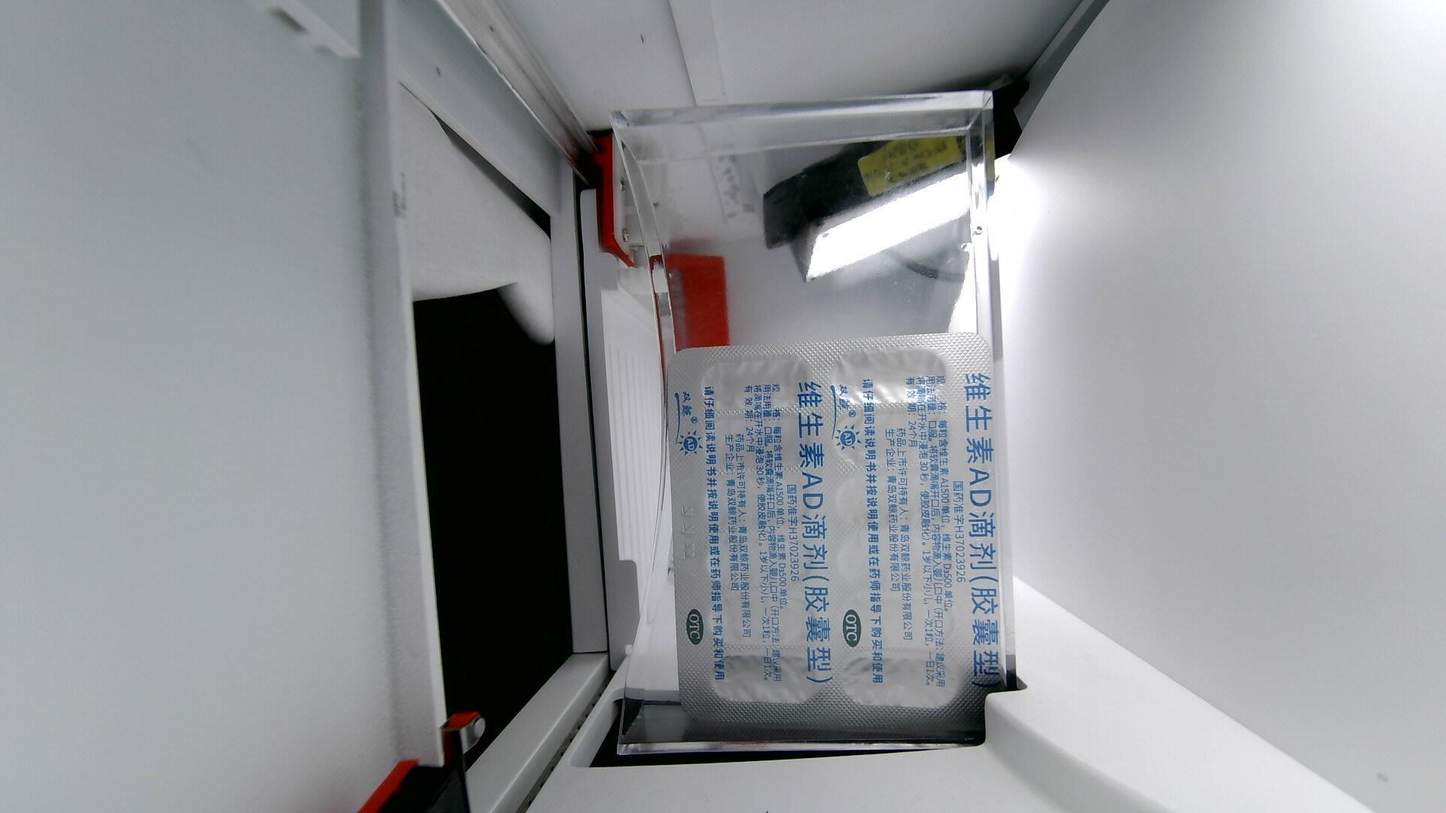Pill Back: (825, 346, 947, 406), (833, 410, 956, 468), (837, 475, 969, 529), (700, 414, 822, 470), (838, 537, 960, 592), (696, 475, 819, 529), (839, 595, 955, 650), (713, 589, 822, 647), (843, 653, 956, 708), (703, 355, 813, 408), (709, 537, 819, 589), (712, 656, 822, 706)
